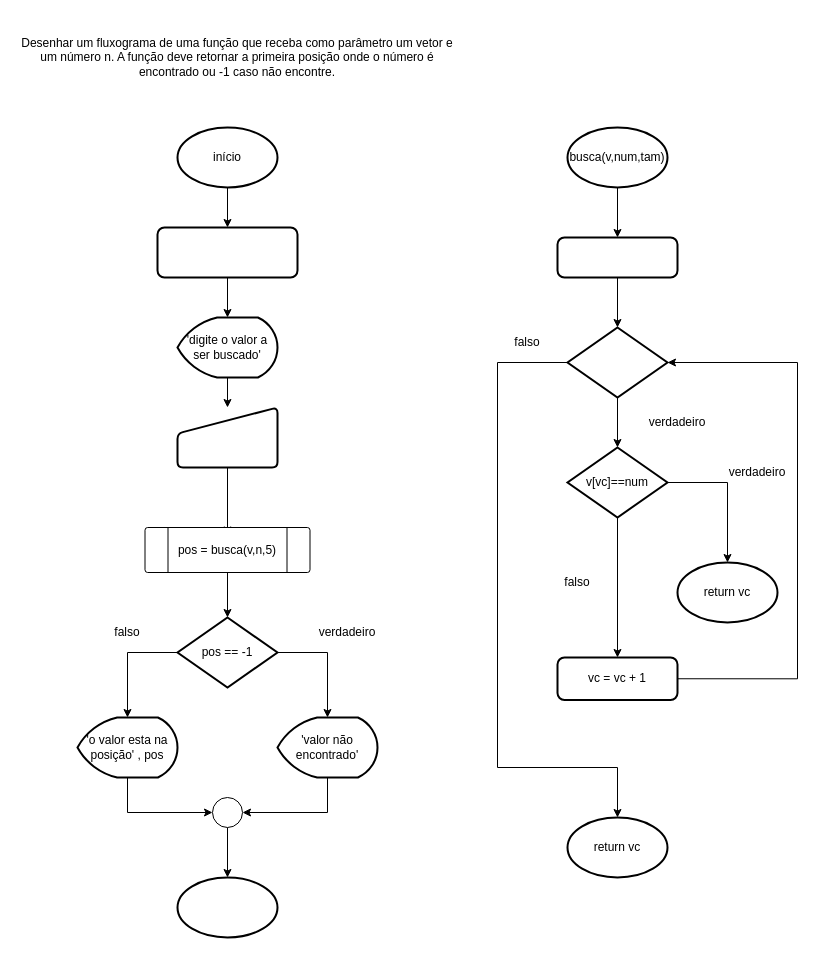
The diagram is 823 pixels wide and 955 high, and some of its shapes have lost their labels. The centre of each missing label's shape, as x and y in pixels:
fim: pixel 227 907
n(int): pixel 227 437
v=[23,4,21,3,23]: pixel 227 252
vc < tam: pixel 617 362
vc = 0: pixel 617 257
